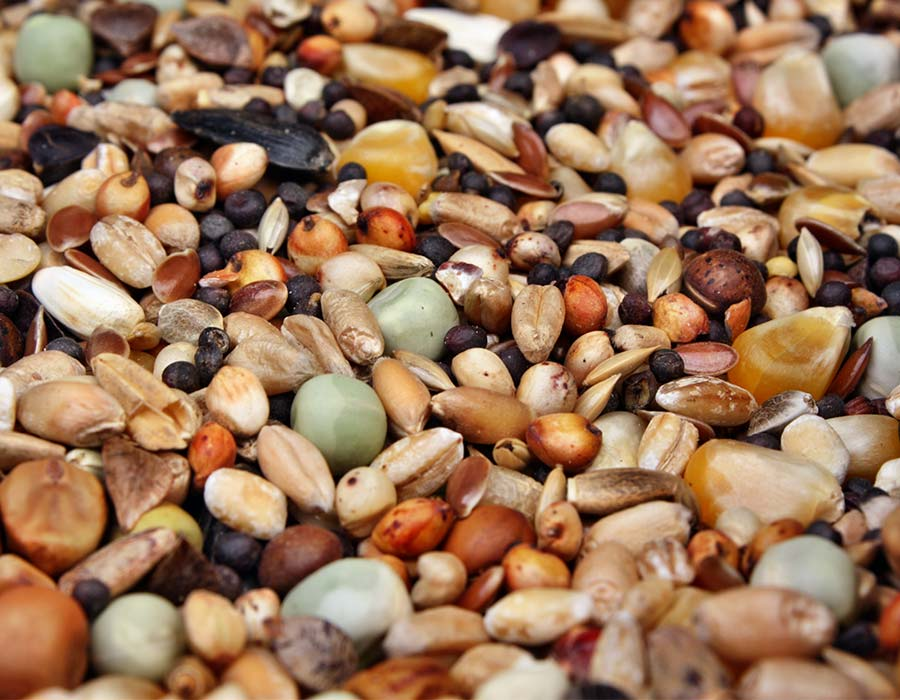seed: (3, 44, 900, 585)
